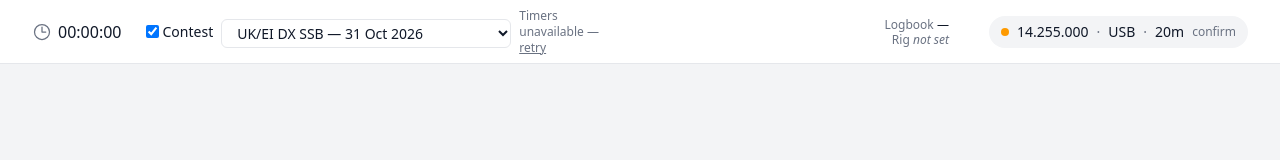
Test: Header contest timers › a failed history load shows no timers, and a retry that reloads
expect the element with test id "timers-unavailable" shows "Timers unavailable": met, box [519,6,599,40]
Click the button "retry" at (533, 48), box [519,40,546,56]
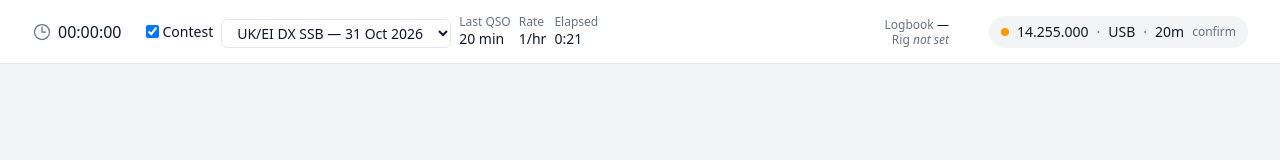
expect the text with test id "timer-last-value" reads "20 min": met, box [459,29,504,48]
